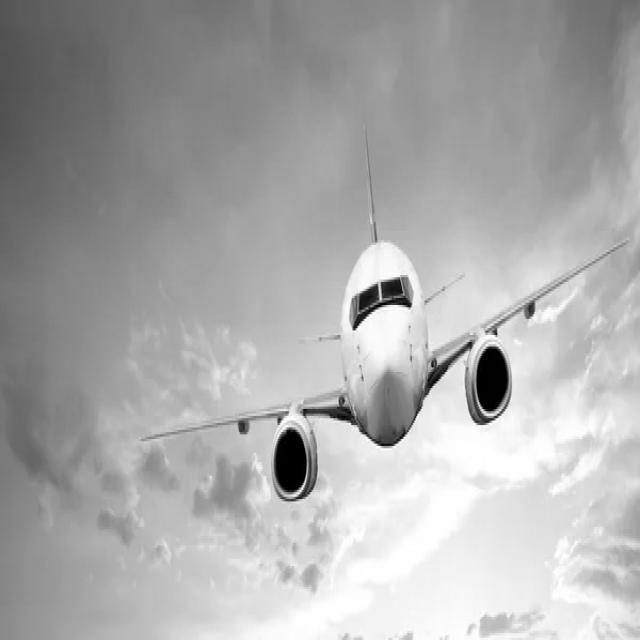Aircraft: (136, 135, 631, 522)
